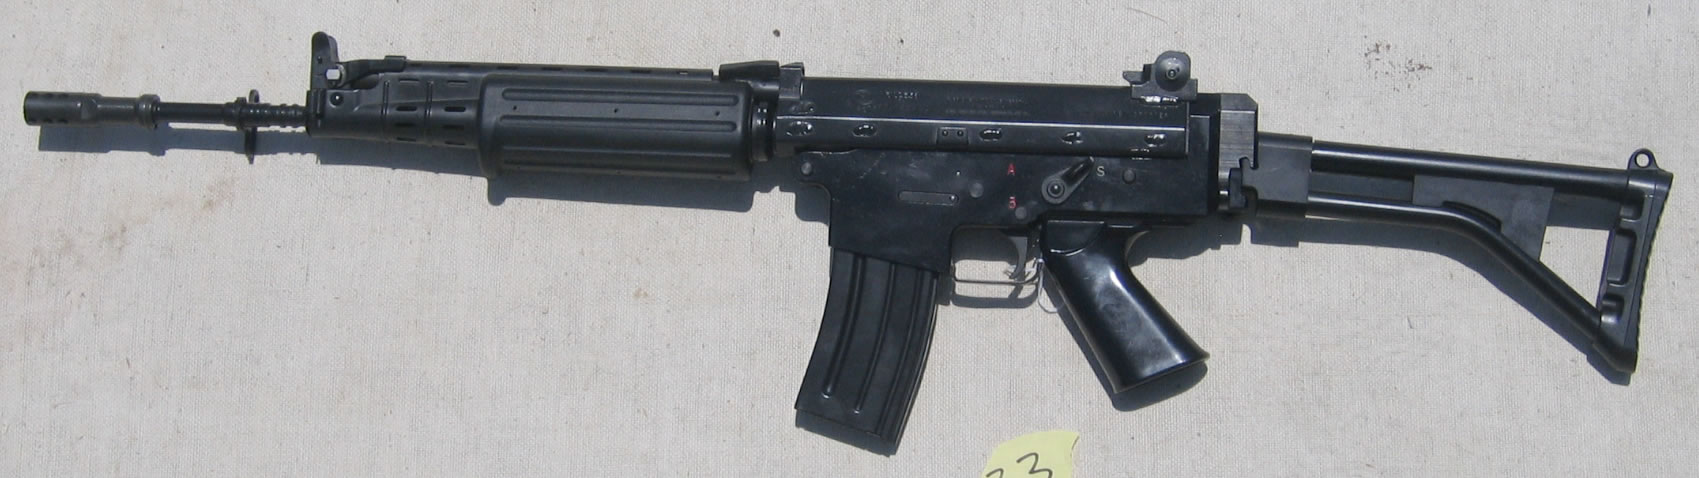rifle: (24, 33, 1686, 458)
